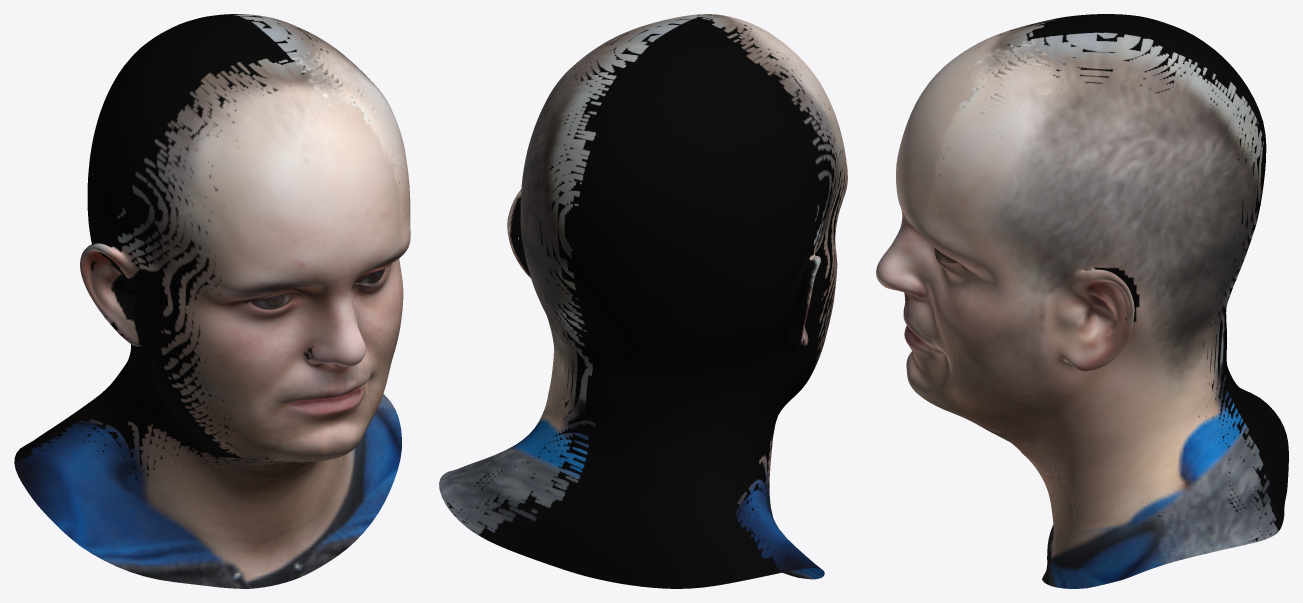
3 views of the same model, side by side, from view 1: azimuth 30°, elevation 25°; view 2: azimuth 150°, elevation 25°; view 3: azimuth 270°, elevation 25° (orthographic).
Parts seen in each view (by area): view 1: FBHead.001; view 2: FBHead.001; view 3: FBHead.001.
Part boxes in pixels (left/top/right/bottom): FBHead.001: left=14, top=14, right=410, bottom=588; FBHead.001: left=439, top=14, right=847, bottom=588; FBHead.001: left=876, top=14, right=1288, bottom=588.
Size of the model in its own units: 1.9 by 2.72 by 1.88.
Materials: 1 (1 with a texture image).
